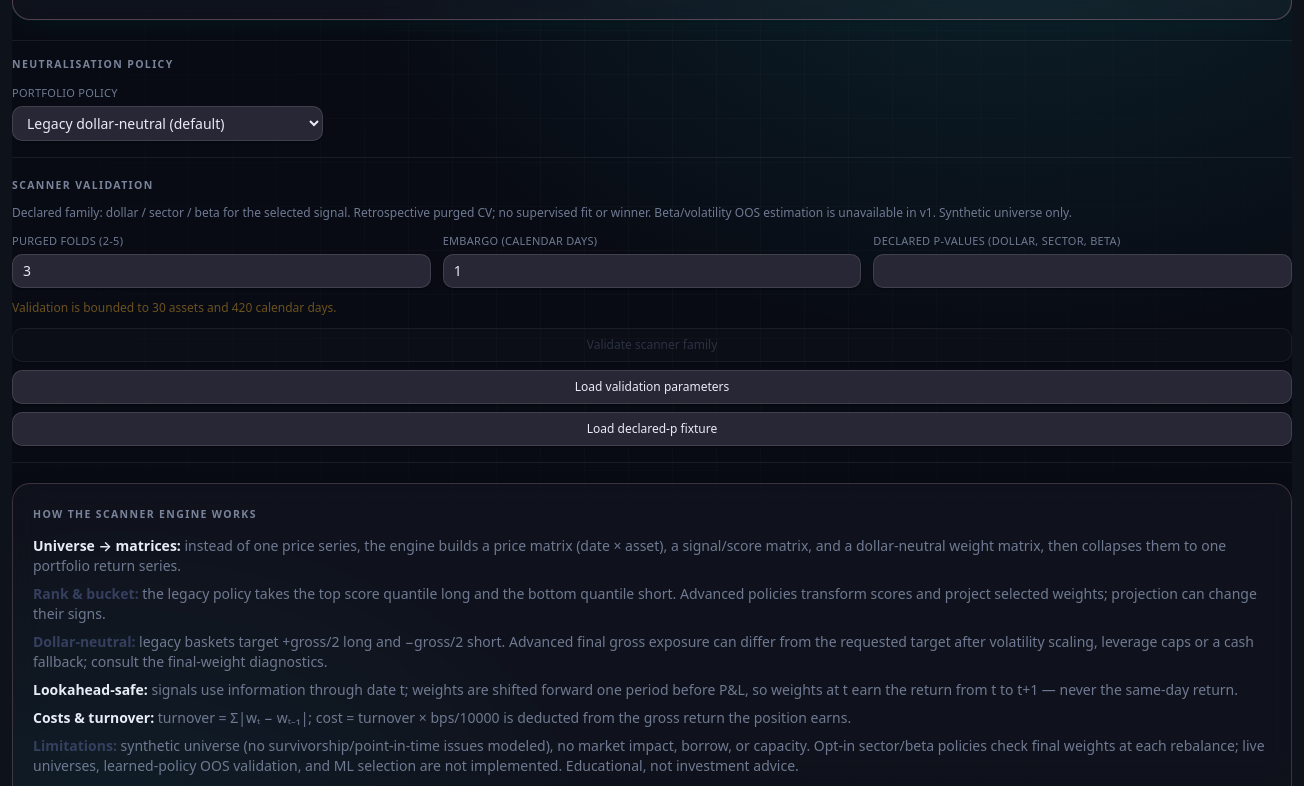
ScannerLabPanel › allows cleared numeric inputs and rejects malformed p-value tokens
This screenshot has width=1304, height=786.
(page scrolled)
Click the button "Load validation parameters" at (652, 387), box x1=12 y1=370 x2=1292 y2=404
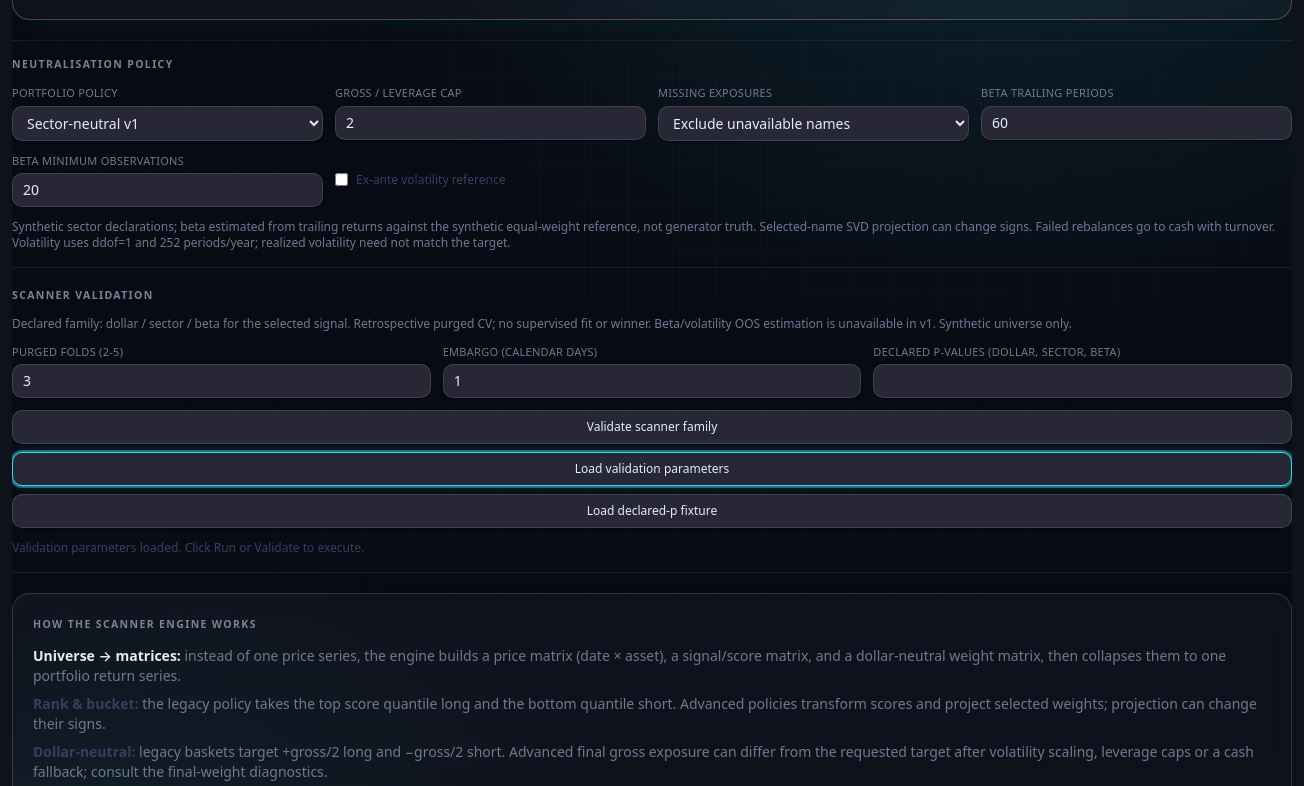
Clear the number field labelled "Gross / leverage cap" at (490, 122), box x1=335 y1=106 x2=646 y2=140
(page scrolled)
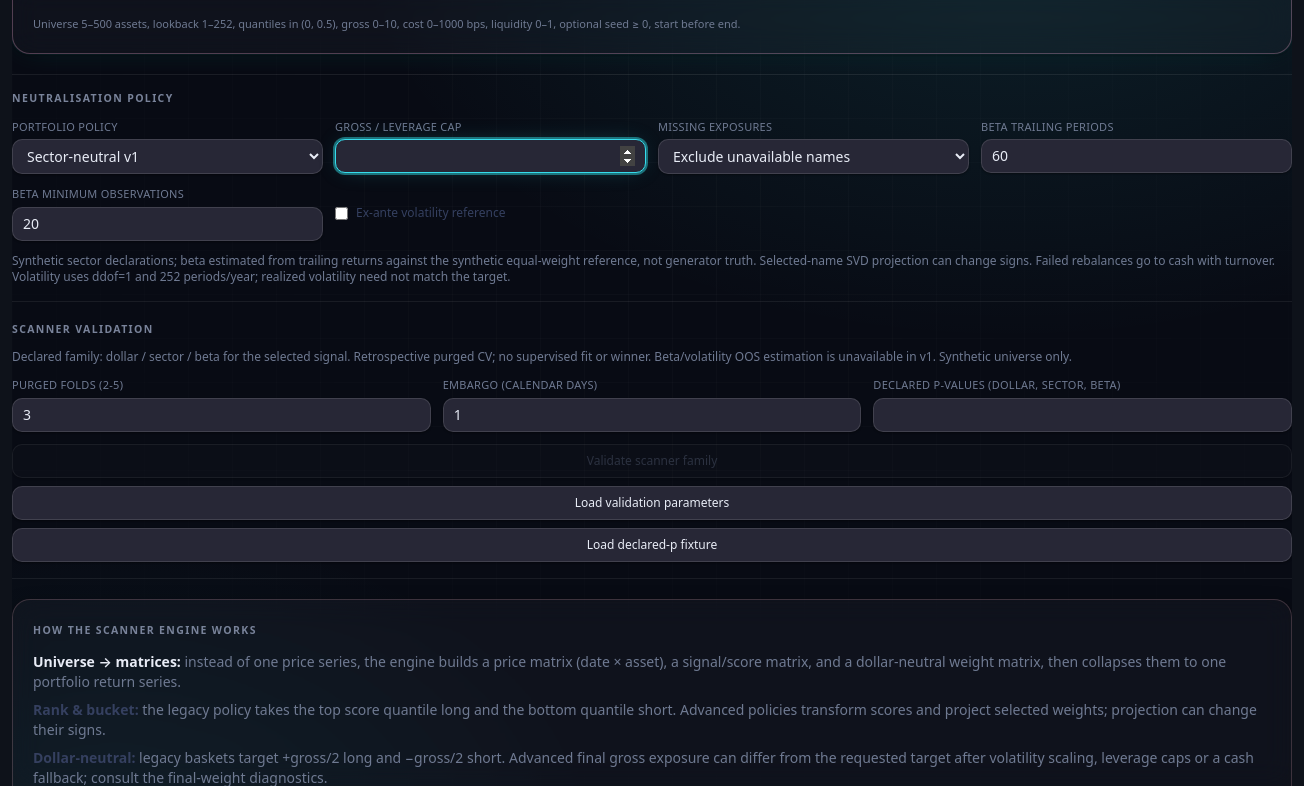
Type "1" into the number field labelled "Gross / leverage cap" at (490, 156), box x1=335 y1=139 x2=646 y2=173
(page scrolled)
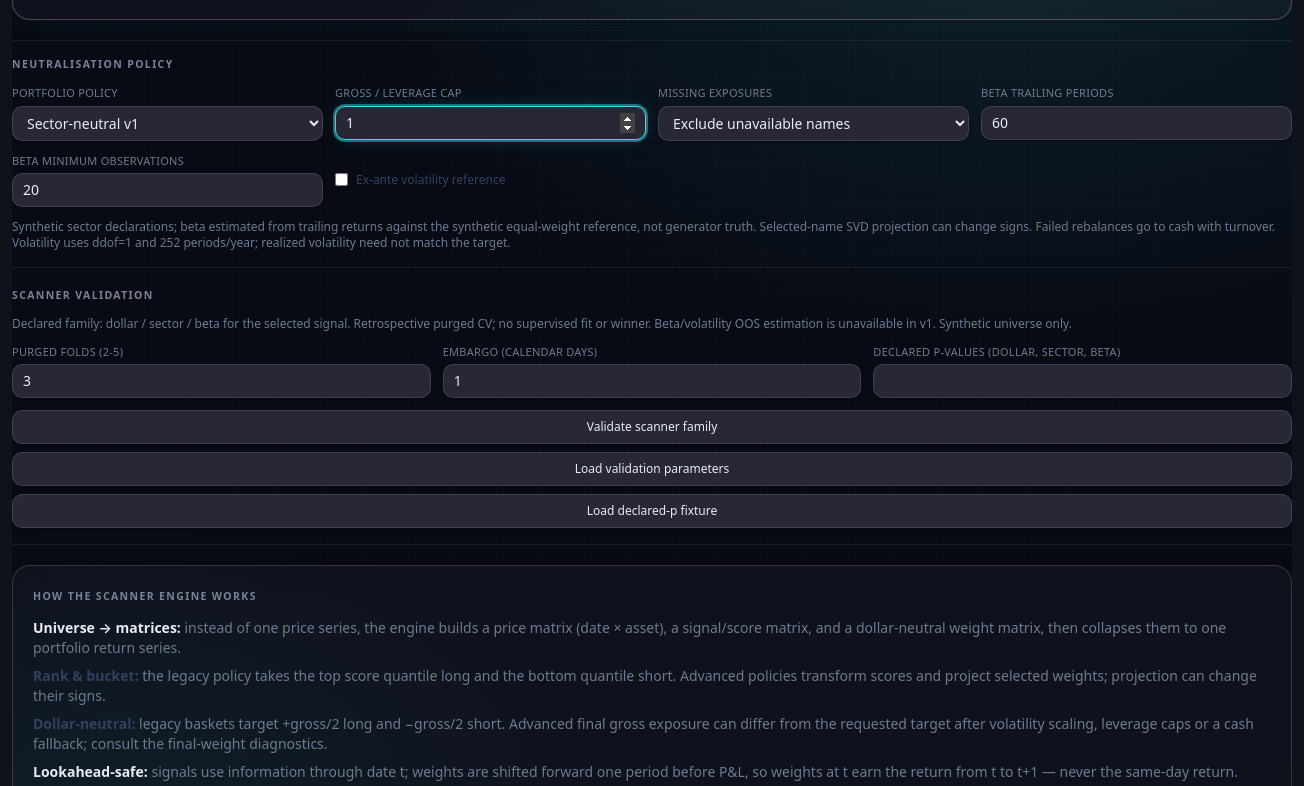
Type "0.01,abc,0.2" into the field labelled "Declared p-values (dollar, sector, beta)" at (1083, 381), box x1=873 y1=364 x2=1292 y2=398
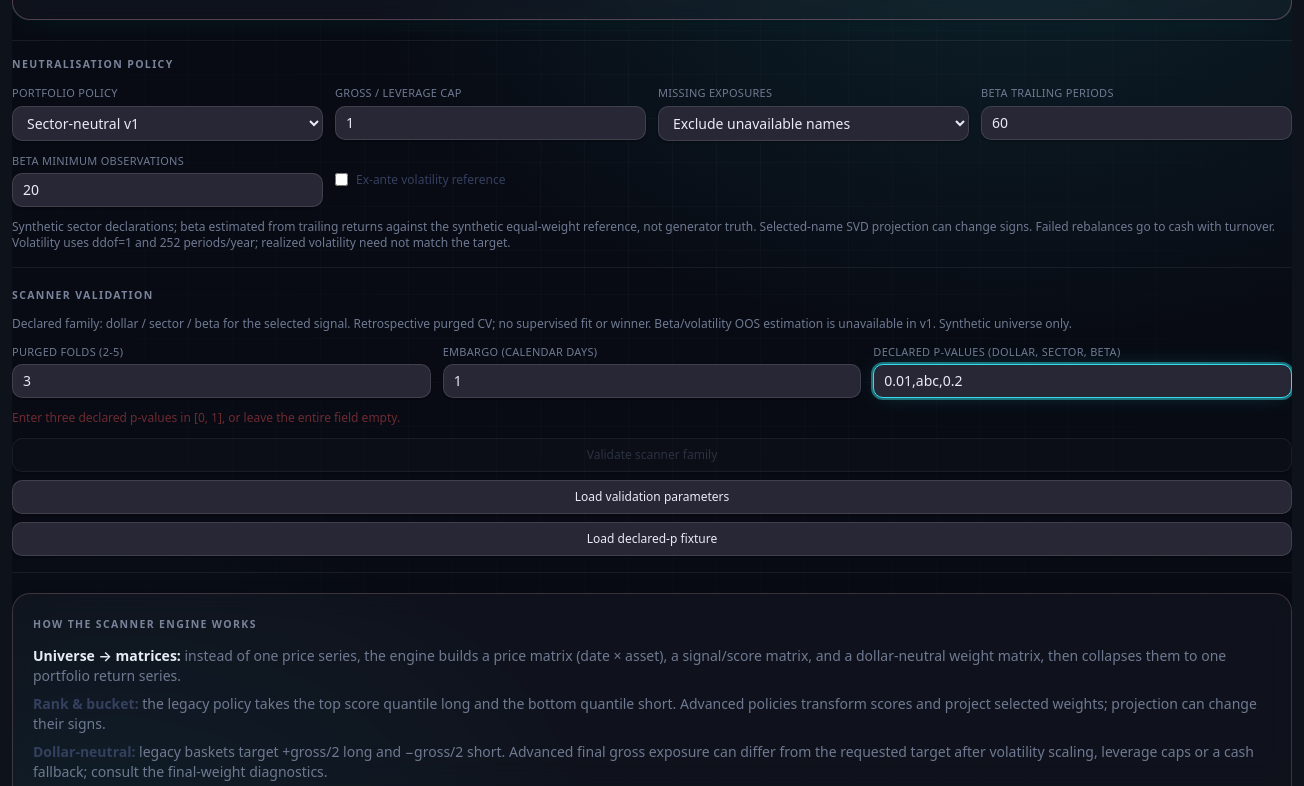
Now the message shows "three declared p-values", box x1=12 y1=409 x2=400 y2=426
Now the button "Validate scanner family" is disabled, box x1=12 y1=438 x2=1292 y2=472
